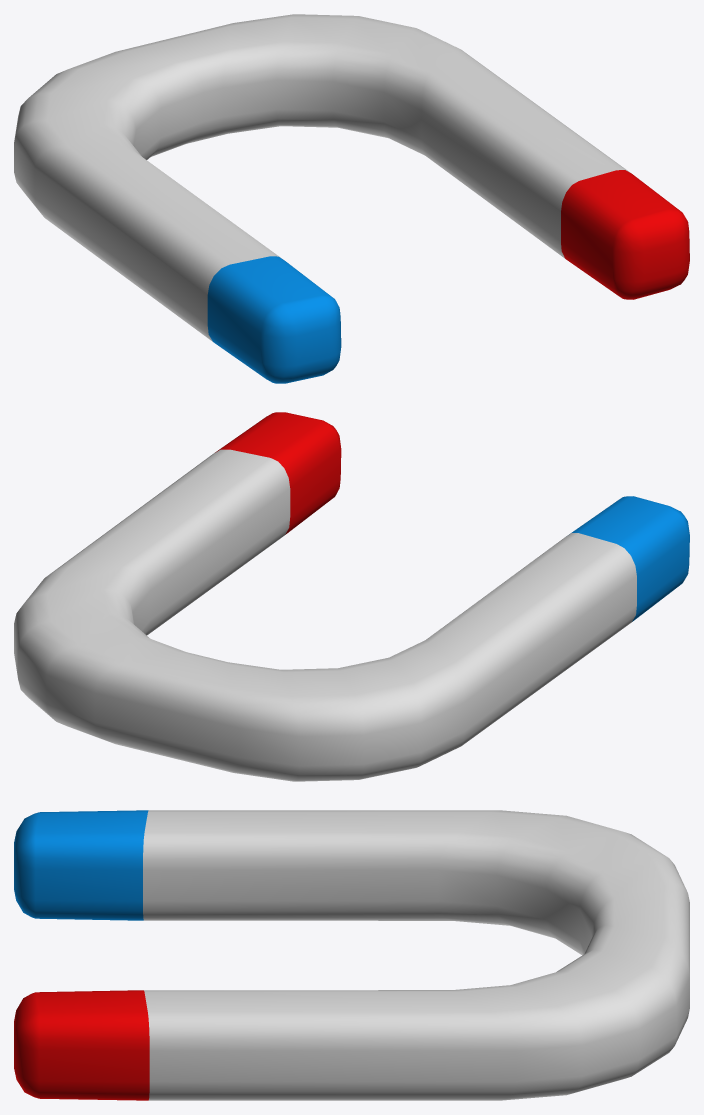
File: magnet.fbx
The picture shows the model from 3 angles, top to bottom: view 1: azimuth 30°, elevation 25°; view 2: azimuth 150°, elevation 25°; view 3: azimuth 270°, elevation 25°; orthographic projection. The views are drawn at different scales.
Parts seen in each view (by area): view 1: Cube; view 2: Cube; view 3: Cube.
Boxes of the visible parts, x1,y1,x2,y2 form: Cube: (14, 14, 689, 383); Cube: (14, 412, 689, 781); Cube: (14, 810, 689, 1100).
Size of the model in its own units: 99.96 by 18.2 by 129.
